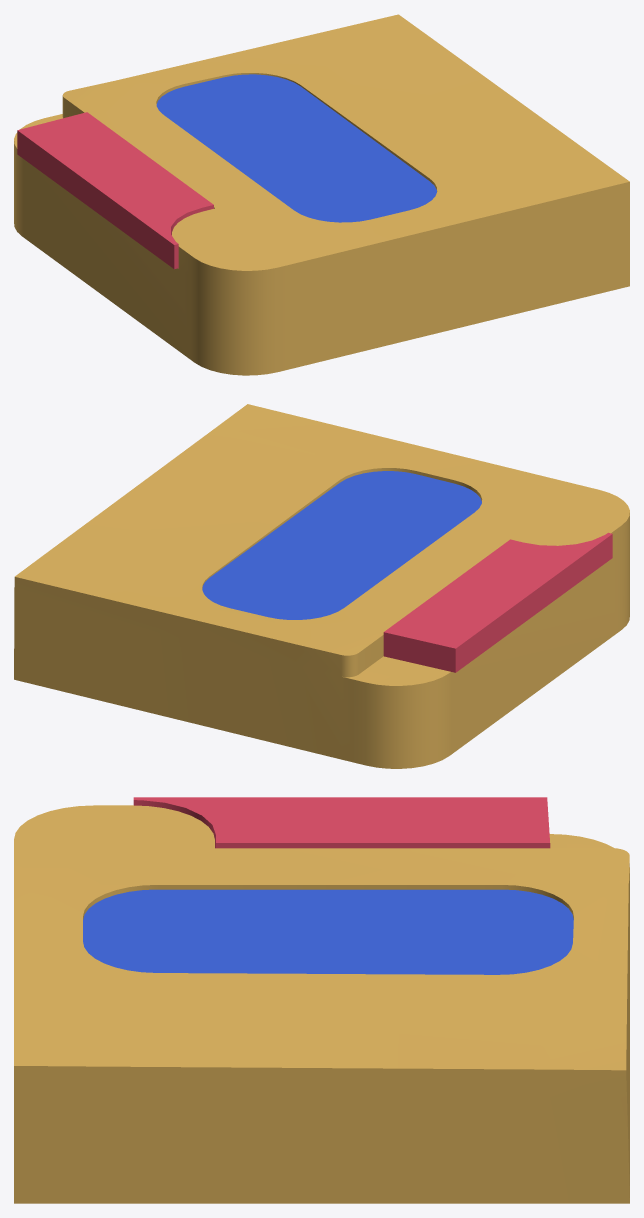
File: holotape.fbx
3 views of the same model, one above another, from view 1: azimuth 30°, elevation 25°; view 2: azimuth 150°, elevation 25°; view 3: azimuth 270°, elevation 25° (orthographic). The views are drawn at different scales.
Parts seen in each view (by area): view 1: base, glass, buton; view 2: base, glass, buton; view 3: base, glass, buton.
Boxes of the visible parts, left/top/right/bottom form: base: left=14, top=14, right=629, bottom=375; glass: left=156, top=74, right=436, bottom=222; buton: left=17, top=112, right=213, bottom=269; base: left=14, top=404, right=629, bottom=768; glass: left=202, top=471, right=481, bottom=619; buton: left=383, top=532, right=612, bottom=672; base: left=14, top=805, right=629, bottom=1203; glass: left=83, top=889, right=573, bottom=974; buton: left=133, top=797, right=550, bottom=848.
Size of the model in its own units: 185 by 46.58 by 182.
